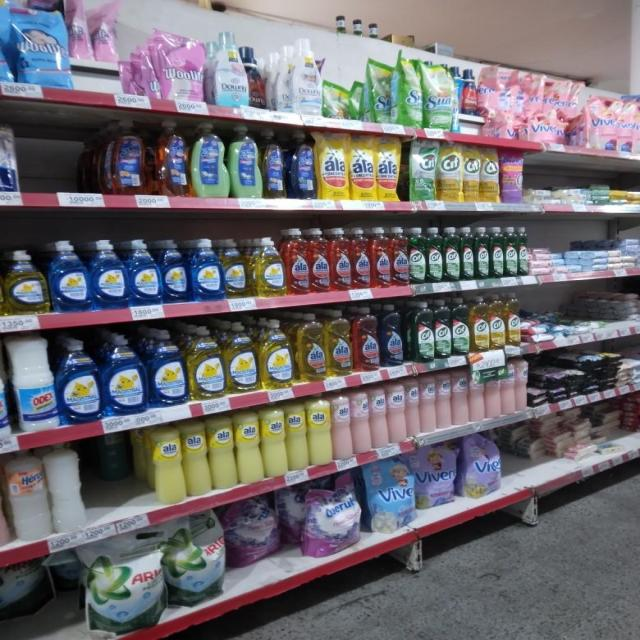ala_conc_amarillo: (295, 312, 325, 382), (326, 309, 352, 377)
ala_conc_azul: (380, 303, 404, 367)
ala_conc_rojo: (354, 306, 379, 372), (286, 228, 308, 295), (309, 228, 329, 294), (330, 227, 350, 291), (351, 227, 370, 290), (371, 226, 390, 288), (391, 226, 408, 286)
ala_crem_amarillo: (149, 424, 183, 504), (209, 415, 236, 490), (184, 421, 209, 497), (236, 411, 261, 484), (262, 406, 286, 477), (308, 395, 332, 466), (286, 401, 307, 472)
ala_crem_rosado: (332, 392, 351, 461), (352, 390, 370, 456), (370, 386, 388, 450), (388, 382, 405, 444), (420, 376, 436, 435), (436, 372, 452, 430), (453, 371, 468, 426), (485, 368, 501, 419), (469, 369, 484, 423), (406, 380, 419, 439), (502, 362, 516, 416), (515, 359, 528, 413)
ala_sachet_amarillo: (316, 130, 348, 199), (349, 133, 376, 201), (377, 135, 401, 201)
cif_conc_bot_amarilla: (470, 296, 488, 352), (489, 294, 505, 350), (506, 293, 520, 346)
cif_conc_botella_verde: (409, 300, 433, 363), (434, 298, 451, 359), (452, 297, 469, 356), (443, 226, 460, 282), (409, 227, 425, 284), (427, 226, 443, 283), (475, 227, 489, 279), (504, 226, 518, 277), (461, 226, 474, 280), (491, 226, 504, 278), (518, 226, 529, 276)
cif_conc_sachet_amarillo: (438, 140, 461, 202), (462, 144, 480, 202), (482, 146, 499, 203)
cif_conc_sachet_verde: (408, 138, 437, 202)
heroe: (8, 449, 48, 541)
magistral_con_amarillo: (5, 249, 48, 315), (188, 326, 224, 400), (259, 317, 293, 389), (225, 321, 258, 393), (252, 236, 284, 297), (222, 238, 250, 299)
magistral_con_azul: (58, 338, 100, 424), (103, 333, 146, 416), (148, 328, 186, 407), (50, 240, 89, 313), (91, 239, 126, 309), (128, 238, 160, 306), (190, 238, 222, 301), (161, 238, 189, 302)
zorro: (191, 121, 227, 198), (155, 119, 188, 197), (229, 124, 261, 198), (0, 340, 10, 440)
